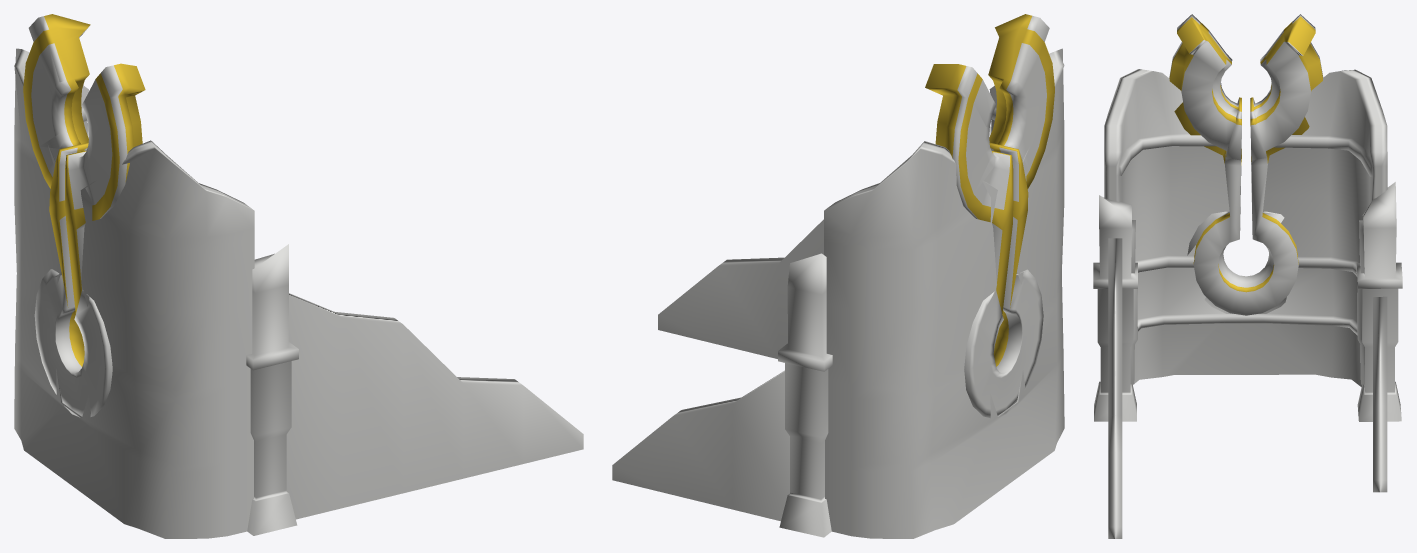
Rendered from SpawnStone.fbx.
The picture shows the model from 3 angles, left to right: view 1: azimuth 30°, elevation 25°; view 2: azimuth 150°, elevation 25°; view 3: azimuth 270°, elevation 25°; orthographic projection. The views are drawn at different scales.
Visible parts, largest first — view 1: pCylinder6; view 2: pCylinder6; view 3: pCylinder6.
Boxes of the visible parts, x1=… form: pCylinder6: x1=14, y1=14, x2=583, y2=538; pCylinder6: x1=612, y1=14, x2=1064, y2=538; pCylinder6: x1=1093, y1=14, x2=1402, y2=538.
Size of the model in its own units: 20.83 by 20.46 by 16.01.
